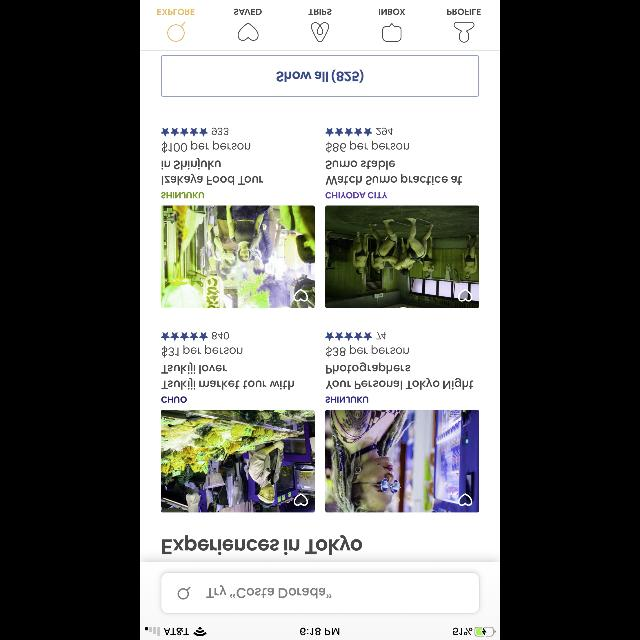icon: (454, 22, 474, 42), (160, 332, 208, 340), (326, 128, 372, 136), (162, 128, 208, 136), (326, 332, 372, 340), (382, 23, 402, 41), (238, 23, 258, 41), (167, 22, 185, 42), (458, 289, 472, 301), (294, 289, 308, 301), (458, 493, 472, 505), (294, 493, 308, 505), (178, 586, 190, 600)
image: (326, 206, 478, 308), (162, 206, 314, 308), (326, 410, 478, 512), (162, 410, 314, 512), (311, 22, 329, 42)
input: (160, 572, 480, 614)
text: (162, 535, 362, 555), (162, 362, 294, 390), (326, 378, 474, 389), (206, 586, 332, 598), (326, 173, 462, 184), (162, 140, 250, 154), (162, 173, 262, 185), (162, 344, 242, 358), (326, 362, 410, 374), (326, 141, 409, 153), (326, 345, 408, 357), (162, 158, 220, 170), (326, 160, 394, 170), (326, 192, 388, 198), (162, 192, 204, 198), (326, 396, 368, 402), (158, 9, 195, 15), (448, 9, 480, 15), (234, 9, 262, 15), (379, 9, 405, 15), (308, 9, 332, 15), (212, 332, 230, 340), (162, 396, 186, 402), (377, 128, 393, 136), (212, 127, 228, 135), (376, 332, 386, 340)
textbutton: (161, 55, 479, 97)
uppertaskbar: (140, 626, 500, 640)
